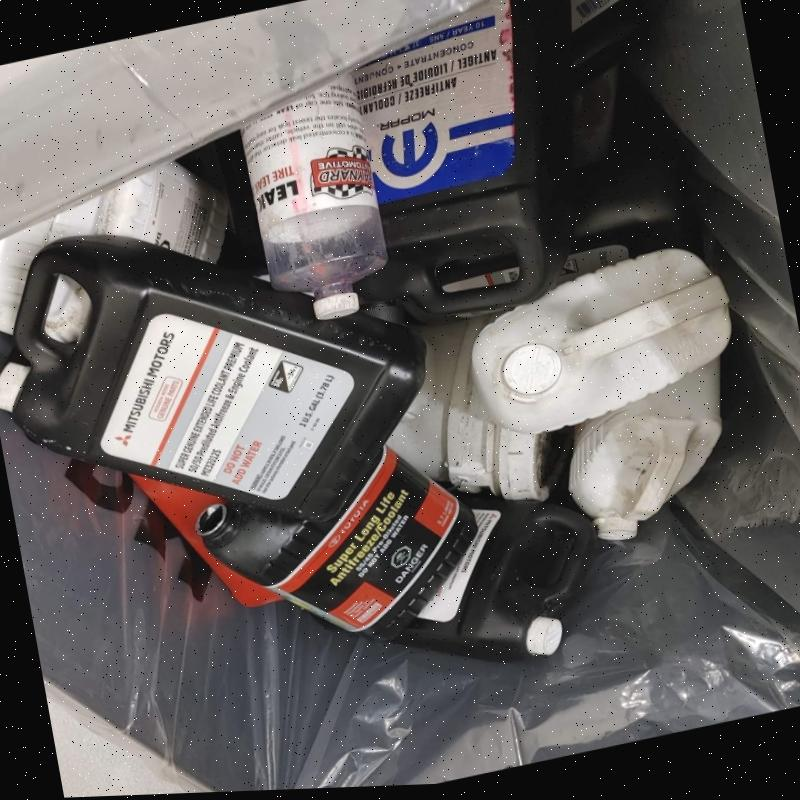plastic bottle: (241, 71, 391, 319)
plastic container: (0, 233, 428, 523), (347, 0, 576, 317), (196, 444, 480, 641), (471, 246, 735, 434), (0, 160, 239, 329), (387, 304, 575, 505), (393, 496, 594, 660), (572, 358, 727, 542)
